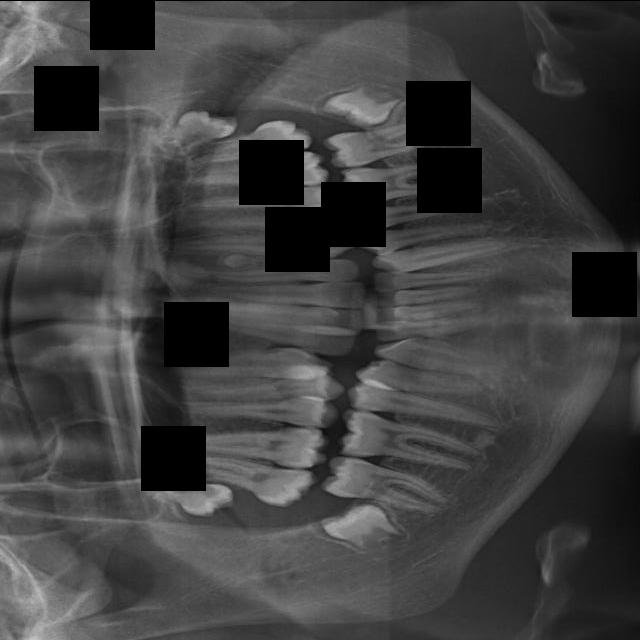3M ESPE Implant: (147, 473, 238, 521)
AGS Medikal Implant: (321, 114, 454, 172)
AMerOss Implant: (357, 207, 358, 207)
Amalgam filling: (176, 447, 319, 513)
Anthogyr Implant: (349, 192, 500, 233)
Bicon Implant: (355, 212, 504, 254)
BioHorizons Implant: (396, 249, 397, 250)
BioLife Implant: (371, 270, 492, 291)
Biomet 3i Implant: (376, 283, 485, 307)
Blue Sky Bio Implant: (373, 297, 480, 324)
Camlog Implant: (373, 315, 483, 342)
Caries: (200, 257, 360, 285)
Composite filling: (371, 328, 509, 386)
Cowellmedi Implant: (354, 355, 487, 407)
Crown: (344, 380, 501, 439)
DENTSPLY Implant: (189, 419, 330, 472)
Dentatus Implant: (335, 407, 484, 472)
Dentis Implant: (317, 452, 455, 516)
Dentium Implant: (316, 487, 414, 564)
Euroteknika Implant: (187, 402, 338, 430)
Filling: (174, 371, 345, 415)
Frontier Implant: (164, 344, 334, 382)
Hiossen Implant: (165, 232, 354, 260)
Implant: (198, 297, 366, 338)
Implant Direct: (197, 316, 355, 361)
Keystone Dental Implant: (202, 280, 368, 314)
MIS Implant: (188, 206, 348, 233)
Mandible: (188, 182, 343, 221)
Maxilla: (178, 148, 331, 197)
Megagen Implant: (160, 114, 314, 170)
Neodent Implant: (217, 138, 218, 139)
Neoss Implant: (320, 67, 406, 137)
